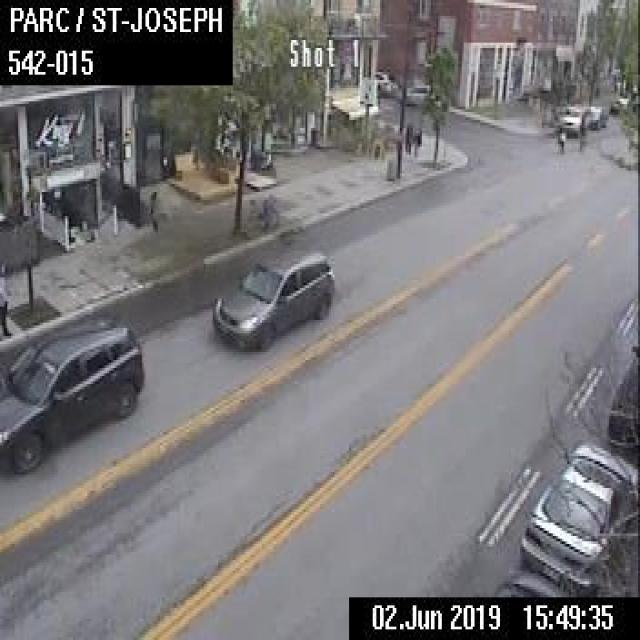pedestrian: (0, 256, 11, 339), (147, 184, 158, 227), (402, 122, 412, 154), (412, 125, 420, 156), (556, 125, 564, 154), (577, 123, 585, 150)
vehicle: (0, 312, 144, 472), (520, 438, 638, 591), (209, 237, 335, 352), (605, 345, 638, 453), (491, 567, 571, 597), (556, 102, 589, 136), (398, 80, 441, 103), (375, 67, 397, 97), (586, 102, 608, 129)
